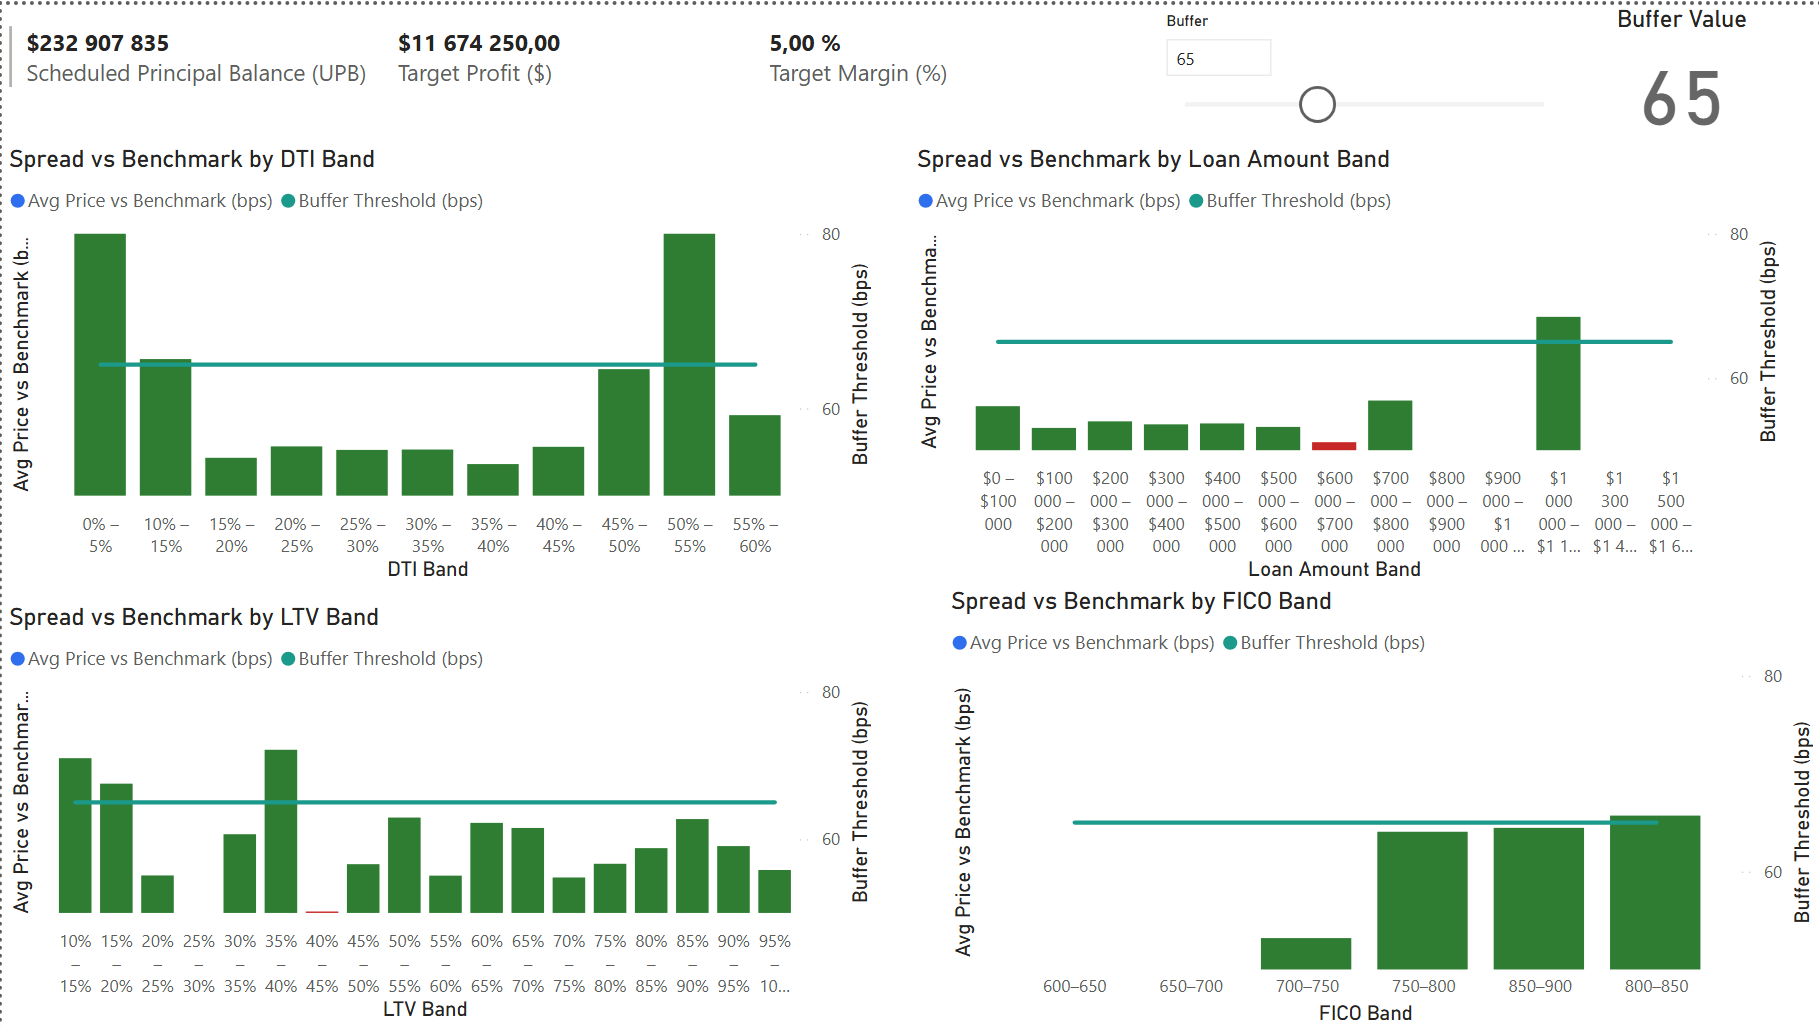

What the dashboard file says about the page in this screenshot:
{"tool":"powerbi","page":{"name":"Profit Analysis","canvas":[1280,720],"ordinal":4},"visuals":[{"type":"lineStackedColumnComboChart","title":"Spread vs Benchmark by LTV Band","fields":{"Category":["Portfolio_Loans.LTV Band"],"Y":["Portfolio_Loans.Avg Price vs Benchmark (bps)"],"Y2":["Portfolio_Loans.Buffer Threshold (bps)"]},"box":[0,421.1,616.9,298.6],"z":1000},{"type":"slicer","fields":{"Values":["Buffer.Buffer"]},"box":[807,0,328.2,119.7],"z":2000},{"type":"lineStackedColumnComboChart","title":"Spread vs Benchmark by FICO Band","fields":{"Category":["Portfolio_Loans.FICO Band"],"Y":["Portfolio_Loans.Avg Price vs Benchmark (bps)"],"Y2":["Portfolio_Loans.Buffer Threshold (bps)"]},"box":[663.4,409.9,616.9,312.7],"z":3000},{"type":"lineStackedColumnComboChart","title":"Spread vs Benchmark by DTI Band","fields":{"Y":["Portfolio_Loans.Avg Price vs Benchmark (bps)"],"Y2":["Portfolio_Loans.Buffer Threshold (bps)"],"Category":["Portfolio_Loans.DTI Band"]},"box":[0,98.6,616.9,311.3],"z":4000},{"type":"lineStackedColumnComboChart","title":"Spread vs Benchmark by Loan Amount Band","fields":{"Category":["Portfolio_Loans.Loan Amount Band"],"Y":["Portfolio_Loans.Avg Price vs Benchmark (bps)"],"Y2":["Portfolio_Loans.Buffer Threshold (bps)"]},"box":[639.4,98.6,616.9,311.3],"z":5000},{"type":"card","title":"Buffer Value","fields":{"Values":["Buffer.Valeur Buffer"]},"box":[1085.9,0,194.4,98.6],"z":6000},{"type":"multiRowCard","fields":{"Values":["Sum(Loan_Cashflows.Scheduled Principal Balance)","Sum(Portfolio_Loans.target_profit)","Portfolio_Loans.Target Profit Margin"]},"box":[0,9.9,807,81.7],"z":6001}]}

Visuals, with their boxes in screenshot pixels (x1, y1, x2, y2), scaled from the page's 1280x720 canvas onto the 1819x1026 screenshot:
"Spread vs Benchmark by LTV Band" lineStackedColumnComboChart: select_region(0, 600, 877, 1025)
slicer - Buffer.Buffer: select_region(1147, 0, 1613, 171)
"Spread vs Benchmark by FICO Band" lineStackedColumnComboChart: select_region(943, 584, 1818, 1025)
"Spread vs Benchmark by DTI Band" lineStackedColumnComboChart: select_region(0, 141, 877, 584)
"Spread vs Benchmark by Loan Amount Band" lineStackedColumnComboChart: select_region(909, 141, 1785, 584)
"Buffer Value" card: select_region(1543, 0, 1818, 141)
multiRowCard - Sum(Loan_Cashflows.Scheduled Principal Balance) x Sum(Portfolio_Loans.target_profit): select_region(0, 14, 1147, 131)
